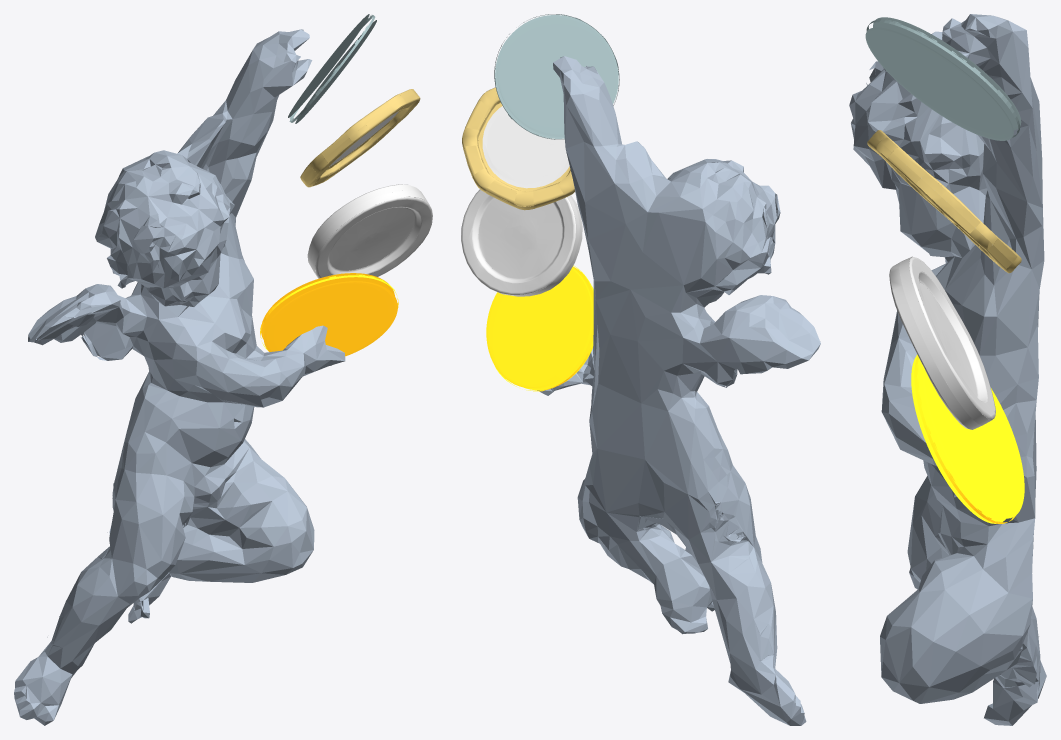
File: angelOfCurrencies.glb
The picture shows the model from 3 angles, left to right: view 1: azimuth 30°, elevation 25°; view 2: azimuth 150°, elevation 25°; view 3: azimuth 270°, elevation 25°; orthographic projection. The views are drawn at different scales.
Visible parts, largest first — view 1: Object_14.006, Cylinder.021_1, C_metal_HP_100Cent_bitcoin_0, Cylinder.002_3, C_metal_HP_100Cent.001_ethereum_0; view 2: Object_14.006, Cylinder.021_1, C_metal_HP_100Cent_bitcoin_0, C_metal_HP_100Cent.001_ethereum_0, Cylinder.002_3; view 3: Object_14.006, C_metal_HP_100Cent.001_ethereum_0, C_metal_HP_100Cent_bitcoin_0, Cylinder.021_1, Cylinder.002_3.
Part boxes in pixels (bbox=[...]): Object_14.006: bbox=[14, 29, 345, 725]; Cylinder.021_1: bbox=[307, 184, 432, 278]; C_metal_HP_100Cent_bitcoin_0: bbox=[260, 273, 398, 356]; Cylinder.002_3: bbox=[300, 89, 420, 187]; C_metal_HP_100Cent.001_ethereum_0: bbox=[288, 14, 376, 123]; Object_14.006: bbox=[537, 56, 820, 725]; Cylinder.021_1: bbox=[461, 189, 582, 296]; C_metal_HP_100Cent_bitcoin_0: bbox=[486, 265, 593, 391]; C_metal_HP_100Cent.001_ethereum_0: bbox=[494, 14, 619, 139]; Cylinder.002_3: bbox=[462, 87, 574, 210]; Object_14.006: bbox=[849, 14, 1046, 725]; C_metal_HP_100Cent.001_ethereum_0: bbox=[865, 17, 1021, 140]; C_metal_HP_100Cent_bitcoin_0: bbox=[911, 354, 1024, 523]; Cylinder.021_1: bbox=[889, 256, 995, 429]; Cylinder.002_3: bbox=[867, 130, 1021, 273].
Size of the model in its own units: 0.5719 by 0.9322 by 0.1868.
